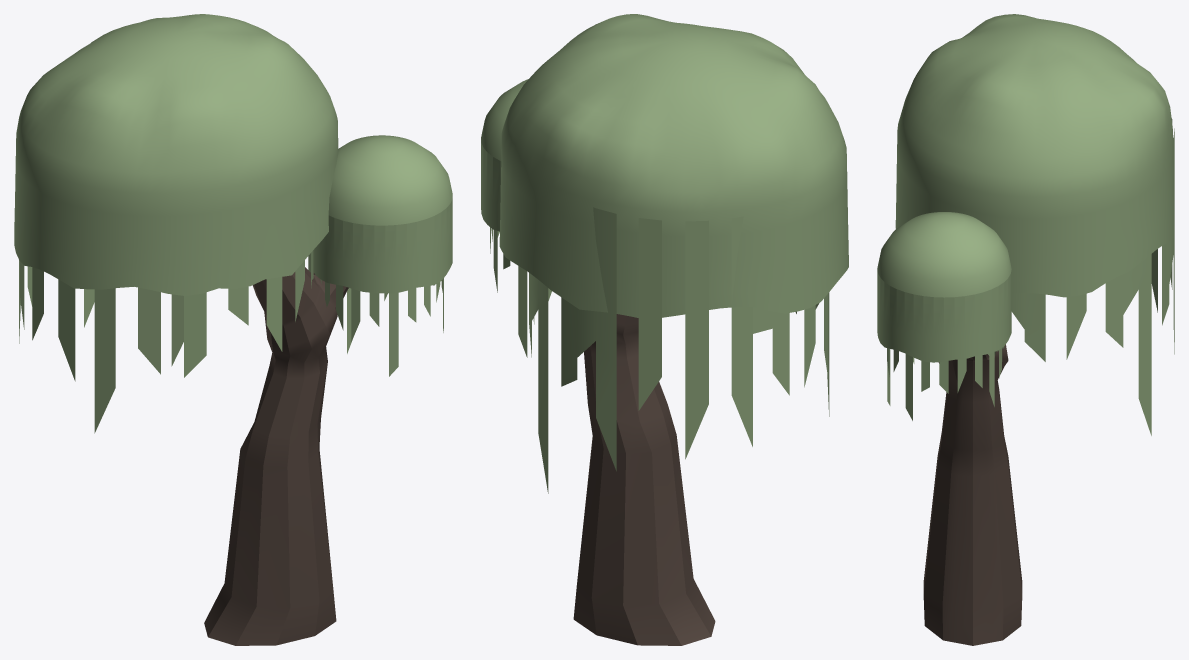
The model's file is siruku_tree.fbx.
3 views of the same model, side by side, from view 1: azimuth 30°, elevation 25°; view 2: azimuth 150°, elevation 25°; view 3: azimuth 270°, elevation 25° (orthographic). The views are drawn at different scales.
Visible parts, largest first — view 1: tree_11; view 2: tree_11; view 3: tree_11.
Boxes of the visible parts, x1,y1,x2,y2 form: tree_11: (14,14,452,645); tree_11: (481,14,848,645); tree_11: (877,14,1174,645).
Bounding box in the file's own units: 1160 × 1763 × 864.
